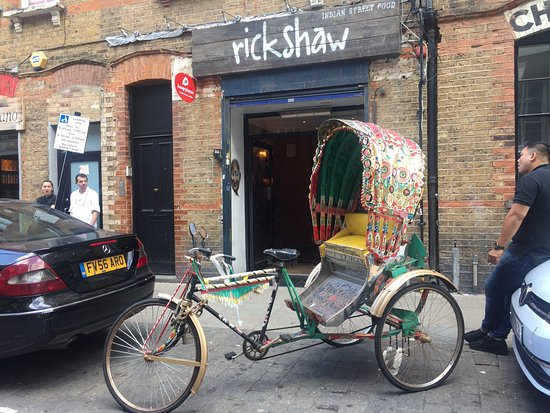Rickshaw: (116, 116, 453, 401)
